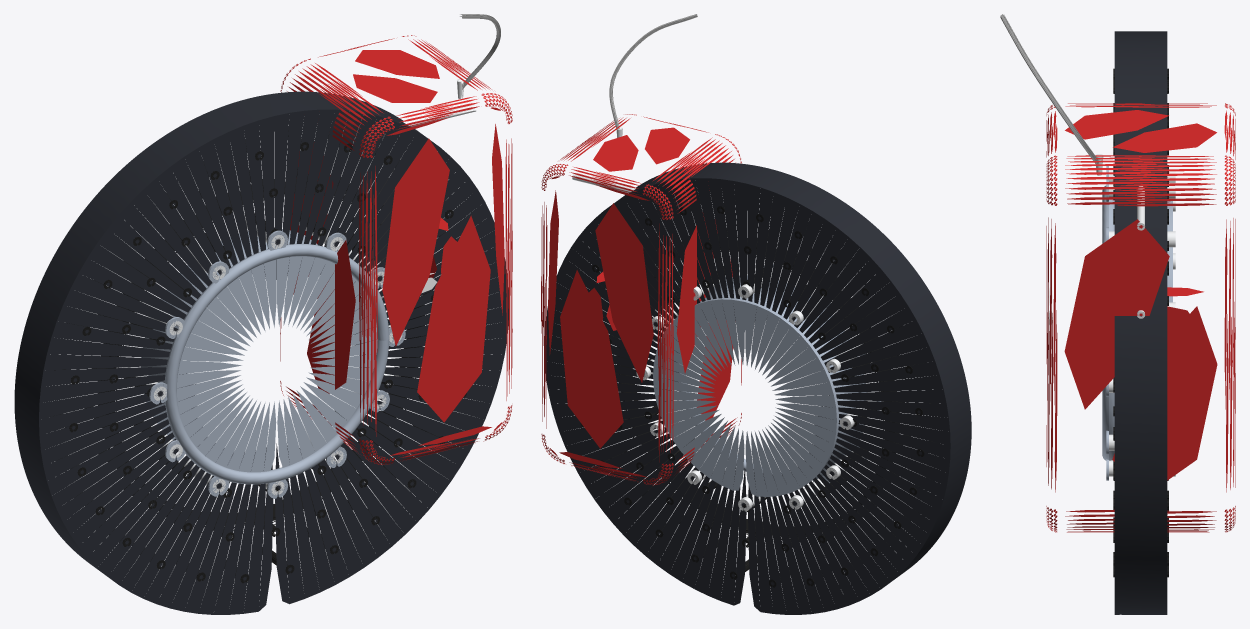
The model's file is brakes.glb.
3 views of the same model, side by side, from view 1: azimuth 30°, elevation 25°; view 2: azimuth 150°, elevation 25°; view 3: azimuth 270°, elevation 25° (orthographic). The views are drawn at different scales.
Parts seen in each view (by area): view 1: Brakes_Assembly_HighDetail; view 2: Brakes_Assembly_HighDetail; view 3: Brakes_Assembly_HighDetail.
Part boxes in pixels (x1,y1,x2,y2): Brakes_Assembly_HighDetail: [14, 14, 512, 614]; Brakes_Assembly_HighDetail: [541, 14, 971, 614]; Brakes_Assembly_HighDetail: [1000, 14, 1235, 614].
Bounding box in the file's own units: 0.42 × 0.5115 × 0.1692.
